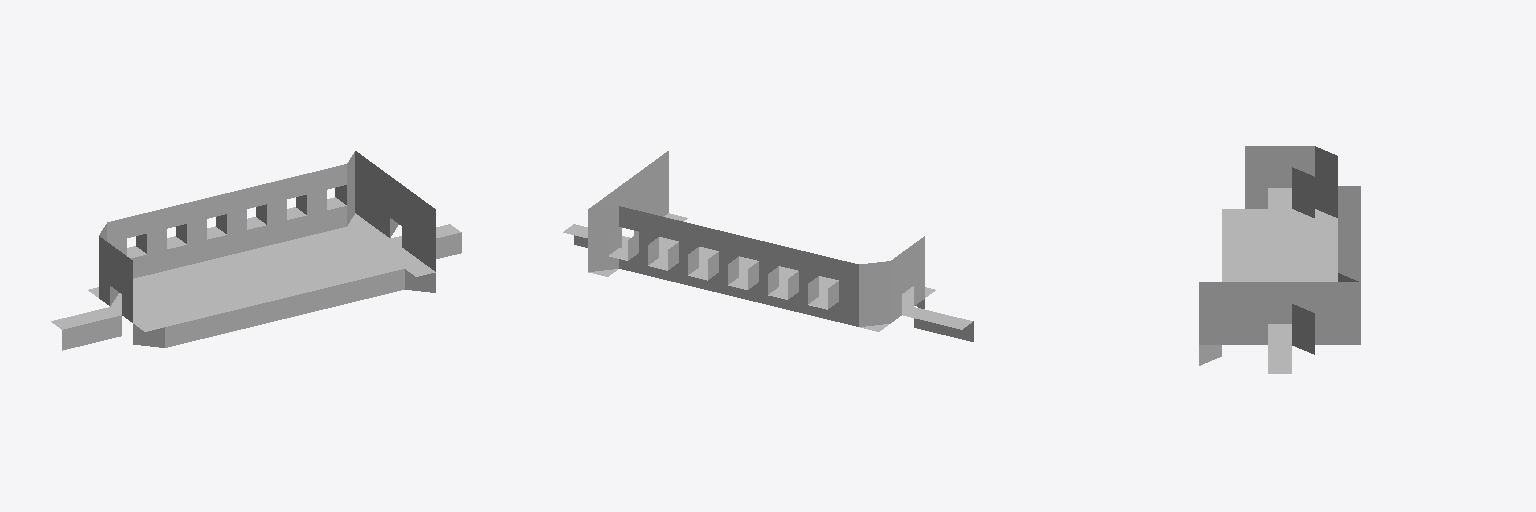
File: evencare2.obj
3 renders of one model, left to right at view 1: azimuth 30°, elevation 25°; view 2: azimuth 150°, elevation 25°; view 3: azimuth 270°, elevation 25°, orthographic.
Visible parts, largest first — view 1: Scene; view 2: Scene; view 3: Scene.
Boxes of the visible parts, x1=… form: Scene: x1=51, y1=151, x2=461, y2=350; Scene: x1=563, y1=151, x2=973, y2=341; Scene: x1=1199, y1=146, x2=1360, y2=373.
Bounding box in the file's own units: 20 × 4 × 7.